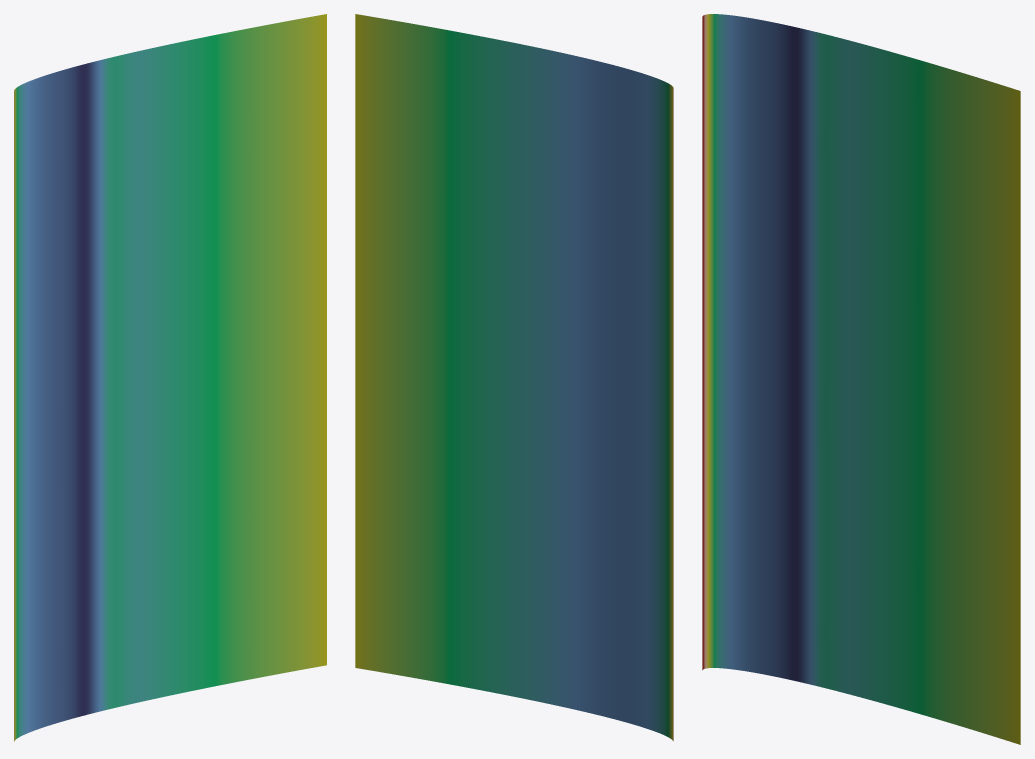
Rendered from morphing_wing_9.glb.
3 views of the same model, side by side, from view 1: azimuth 30°, elevation 25°; view 2: azimuth 150°, elevation 25°; view 3: azimuth 330°, elevation 25° (orthographic).
Parts seen in each view (by area): view 1: part_0_0; view 2: part_0_0; view 3: part_0_0.
Boxes of the visible parts, x1,y1,x2,y2 form: part_0_0: [14, 14, 326, 741]; part_0_0: [355, 14, 673, 741]; part_0_0: [702, 14, 1020, 744].
Bounding box in the file's own units: 1.01 × 2 × 0.1203.
